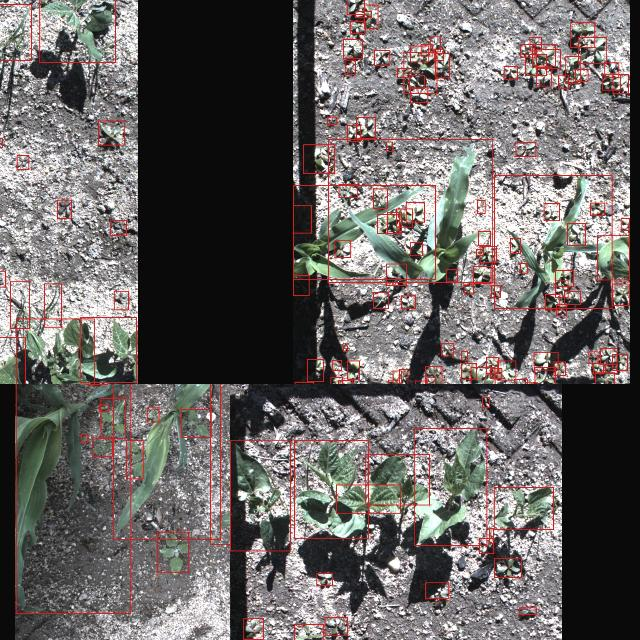crop: (15, 384, 130, 613), (328, 140, 492, 282), (113, 384, 221, 539), (494, 175, 612, 308), (292, 185, 436, 279), (415, 428, 487, 546), (294, 440, 368, 538), (230, 441, 290, 551), (16, 318, 94, 384), (40, 0, 116, 63), (80, 317, 136, 383), (365, 455, 429, 505), (494, 487, 554, 529), (336, 485, 400, 513), (598, 236, 630, 280), (0, 337, 25, 384)
weed: (0, 4, 31, 60), (404, 52, 436, 94), (158, 532, 188, 572), (100, 398, 126, 438), (10, 281, 30, 329), (302, 144, 334, 174), (181, 409, 211, 437), (578, 38, 606, 64), (44, 284, 61, 326), (98, 121, 124, 145), (571, 22, 595, 48), (126, 441, 142, 479), (494, 558, 522, 578), (532, 44, 556, 66), (293, 205, 311, 232), (293, 624, 322, 640), (526, 54, 546, 76), (386, 264, 406, 286), (243, 618, 263, 640), (536, 50, 560, 68), (534, 352, 558, 370), (324, 617, 348, 635), (377, 214, 399, 233), (471, 367, 495, 384), (356, 118, 376, 138), (568, 223, 586, 245), (612, 284, 630, 306), (566, 56, 580, 84), (434, 54, 450, 78), (342, 40, 362, 59), (92, 438, 112, 457), (406, 202, 424, 222), (498, 360, 516, 380), (307, 359, 323, 381), (426, 583, 448, 599), (535, 367, 555, 384), (364, 5, 378, 29), (473, 266, 491, 284), (554, 270, 574, 286), (293, 275, 309, 295), (387, 212, 401, 234), (409, 46, 428, 62), (602, 74, 620, 90), (536, 68, 552, 86), (396, 209, 412, 227), (334, 240, 350, 258), (600, 348, 618, 364), (426, 366, 442, 384), (114, 290, 128, 310), (614, 74, 628, 94), (373, 189, 387, 209), (516, 142, 536, 156), (544, 203, 560, 220), (110, 220, 126, 236), (374, 50, 390, 66), (480, 246, 496, 262), (612, 354, 628, 370), (57, 200, 71, 218), (410, 88, 428, 102), (346, 0, 364, 14), (339, 184, 357, 198), (595, 372, 615, 384), (605, 62, 619, 78), (520, 44, 536, 58), (347, 125, 361, 141), (546, 294, 560, 310), (374, 292, 388, 308), (480, 538, 494, 554), (347, 361, 359, 379), (504, 66, 518, 80), (462, 364, 476, 378), (350, 21, 366, 33), (590, 203, 606, 215), (556, 281, 568, 297), (564, 292, 580, 304), (486, 358, 498, 374), (316, 573, 332, 585), (410, 75, 424, 88), (441, 342, 454, 356), (17, 155, 29, 169), (530, 37, 542, 51), (410, 242, 422, 256), (401, 296, 415, 308), (554, 362, 566, 376), (478, 231, 490, 245), (147, 408, 159, 422), (430, 36, 440, 52), (396, 68, 412, 78), (510, 238, 520, 254), (421, 44, 433, 56), (576, 69, 588, 81), (559, 74, 569, 88), (345, 60, 355, 74), (398, 369, 407, 384), (447, 270, 458, 282), (434, 49, 444, 61), (620, 218, 630, 230), (606, 364, 618, 374), (557, 304, 567, 316), (392, 371, 401, 384), (491, 368, 502, 378), (492, 285, 501, 297), (477, 200, 485, 213), (464, 284, 474, 294), (594, 364, 604, 374), (331, 361, 341, 371), (355, 12, 371, 18), (590, 352, 598, 364), (520, 608, 536, 614), (330, 377, 342, 384), (0, 271, 5, 287), (520, 263, 528, 273), (482, 397, 490, 407), (328, 117, 337, 125), (514, 379, 527, 384), (100, 404, 108, 412), (489, 528, 493, 544), (426, 377, 435, 384), (386, 142, 392, 152), (461, 352, 467, 361), (476, 249, 484, 255), (81, 434, 87, 442), (415, 381, 427, 384), (342, 346, 348, 350)
